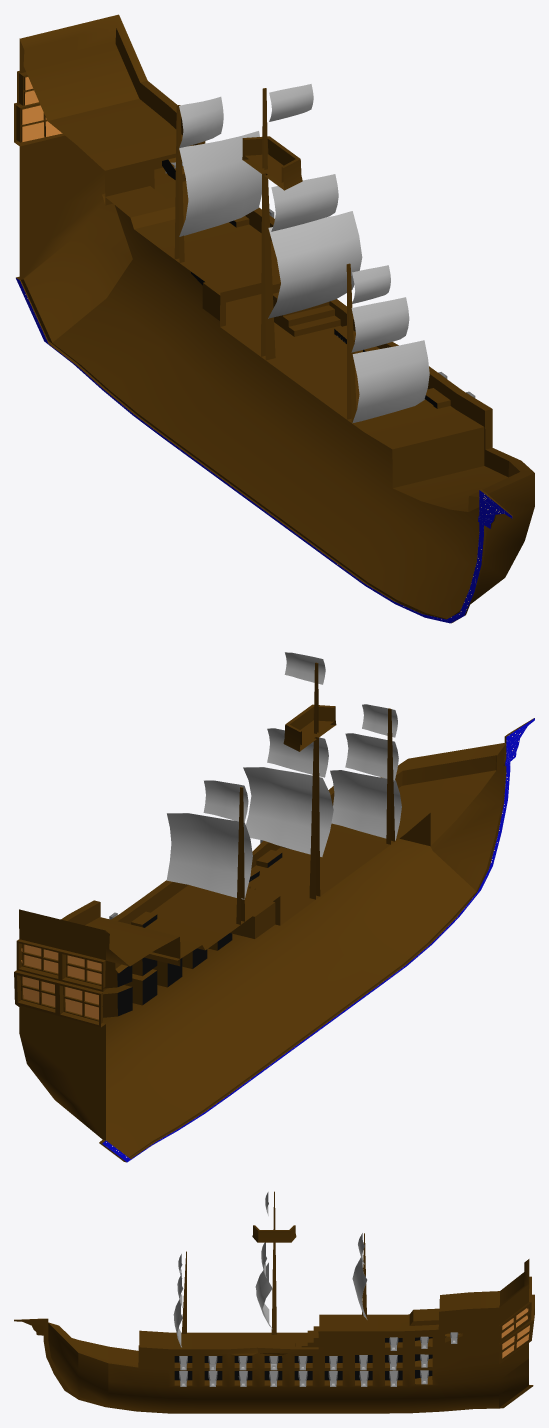
3 renders of one model, top to bottom at view 1: azimuth 30°, elevation 25°; view 2: azimuth 150°, elevation 25°; view 3: azimuth 270°, elevation 25°, orthographic. The views are drawn at different scales.
Visible parts, largest first — view 1: Cube; view 2: Cube; view 3: Cube.
Part boxes in pixels (x1=…): Cube: x1=14, y1=14, x2=534, y2=623; Cube: x1=14, y1=652, x2=534, y2=1162; Cube: x1=14, y1=1191, x2=534, y2=1413.
Bounding box in the file's own units: 1.23 × 4.06 × 8.67.
1 material, 1 textured.
